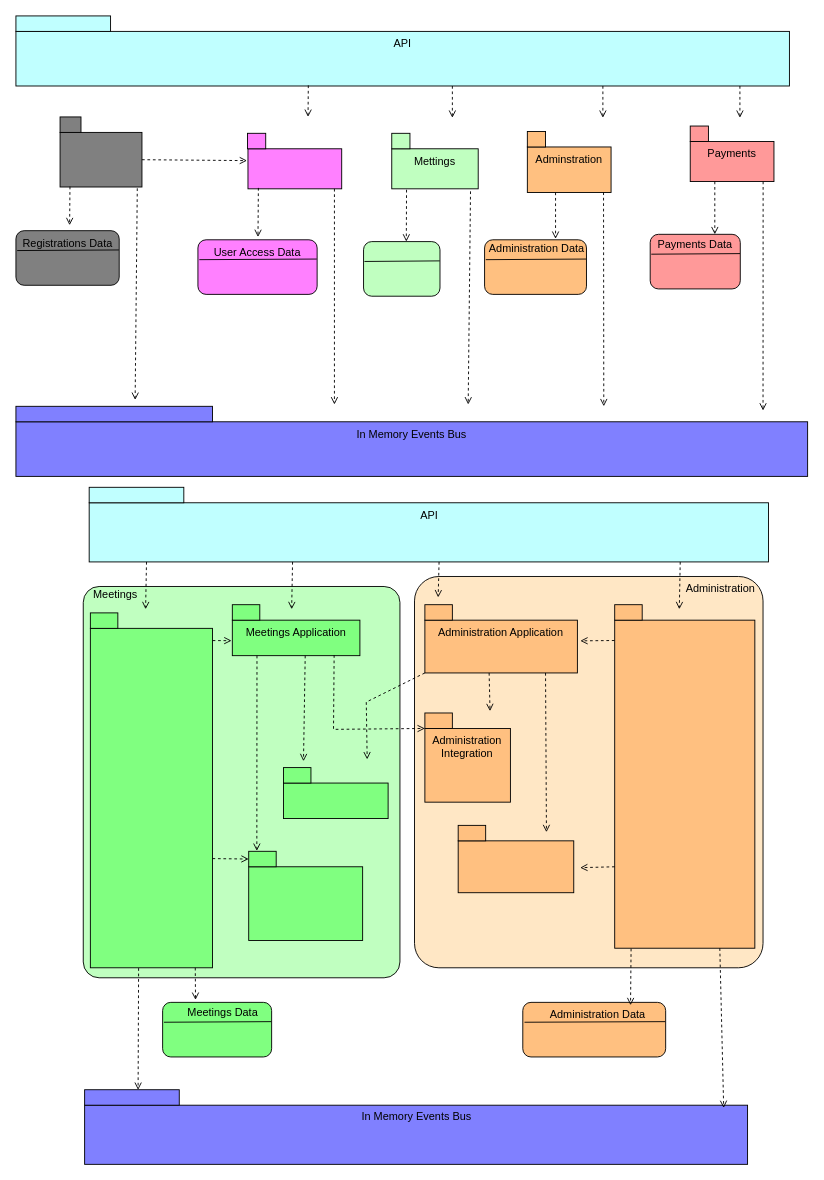
Some shapes in this 824 by 1180 pixel diagram are drawn without their labels. The centre of each missing label's shape, as x and y in pixels:
"Administration Domain" belongs at pixel 515 866.
"Adminstration Infrastructure" belongs at pixel 684 783.
"Meetings Domain" belongs at pixel 305 903.
"Meetings infrastructure" belongs at pixel 150 797.
"Meetings IntefrationEvents" belongs at pixel 335 800.
"Mettings Data" belongs at pixel 401 268.
"Registrations" belongs at pixel 100 159.
"User Access" belongs at pixel 294 168.
